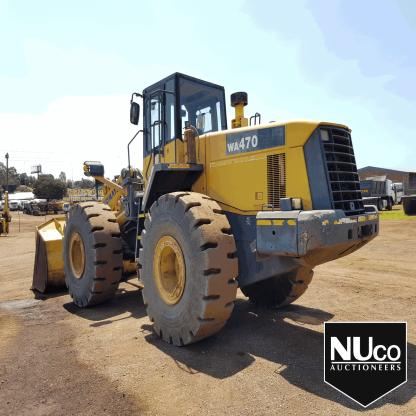bull_dozer/loader/grader: (28, 71, 376, 348)
